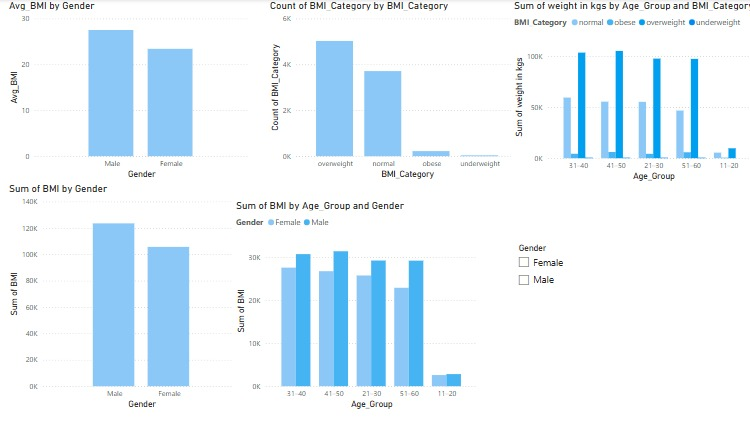

The page's visual inventory and layout, read from the dashboard file:
{"tool":"powerbi","page":{"name":"Comparative Analysis","canvas":[1280,720],"ordinal":1},"visuals":[{"type":"columnChart","fields":{"Y":["weight-height-updated (1).Avg_BMI"],"Category":["weight-height-updated (1).Gender"]},"box":[10.1,0,411.5,307.4],"z":0},{"type":"columnChart","fields":{"Category":["weight-height-updated (1).Gender"],"Y":["Sum(weight-height-updated (1).BMI)"]},"box":[10.1,307.4,399.8,386.4],"z":1000},{"type":"columnChart","fields":{"Y":["CountNonNull(weight-height-updated (1).BMI_Category)"],"Category":["weight-height-updated (1).BMI_Category"]},"box":[448.5,0,428.3,307.4],"z":2000},{"type":"clusteredColumnChart","fields":{"Category":["weight-height-updated (1).Age_Group"],"Y":["Sum(weight-height-updated (1).BMI)"],"Series":["weight-height-updated (1).Gender"]},"box":[391.4,336,414.9,357.8],"z":3000},{"type":"clusteredColumnChart","fields":{"Category":["weight-height-updated (1).Age_Group"],"Series":["weight-height-updated (1).BMI_Category"],"Y":["Sum(weight-height-updated (1).weight in kgs)"]},"box":[858.4,0,421.6,310.8],"z":4000},{"type":"slicer","fields":{"Values":["weight-height-updated (1).Gender"]},"box":[858.4,404.8,240.2,110.9],"z":5000}]}

Visuals, with their boxes in screenshot pixels (x1, y1, x2, y2), scaled from the page's 1280x720 canvas onto the 750x428 screenshot:
columnChart - weight-height-updated (1).Avg_BMI x weight-height-updated (1).Gender: bbox(6, 0, 247, 183)
columnChart - weight-height-updated (1).Gender x Sum(weight-height-updated (1).BMI): bbox(6, 183, 240, 412)
columnChart - CountNonNull(weight-height-updated (1).BMI_Category) x weight-height-updated (1).BMI_Category: bbox(263, 0, 514, 183)
clusteredColumnChart - weight-height-updated (1).Age_Group x Sum(weight-height-updated (1).BMI): bbox(229, 200, 472, 412)
clusteredColumnChart - weight-height-updated (1).Age_Group x weight-height-updated (1).BMI_Category: bbox(503, 0, 749, 185)
slicer - weight-height-updated (1).Gender: bbox(503, 241, 644, 307)
